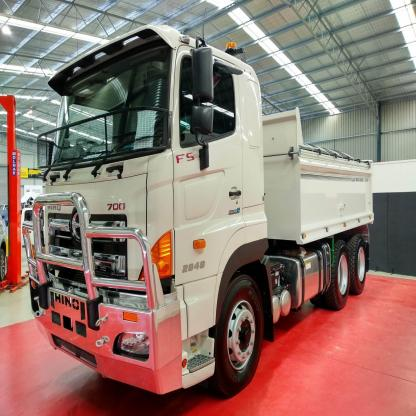dump_truck: (23, 18, 378, 410)
